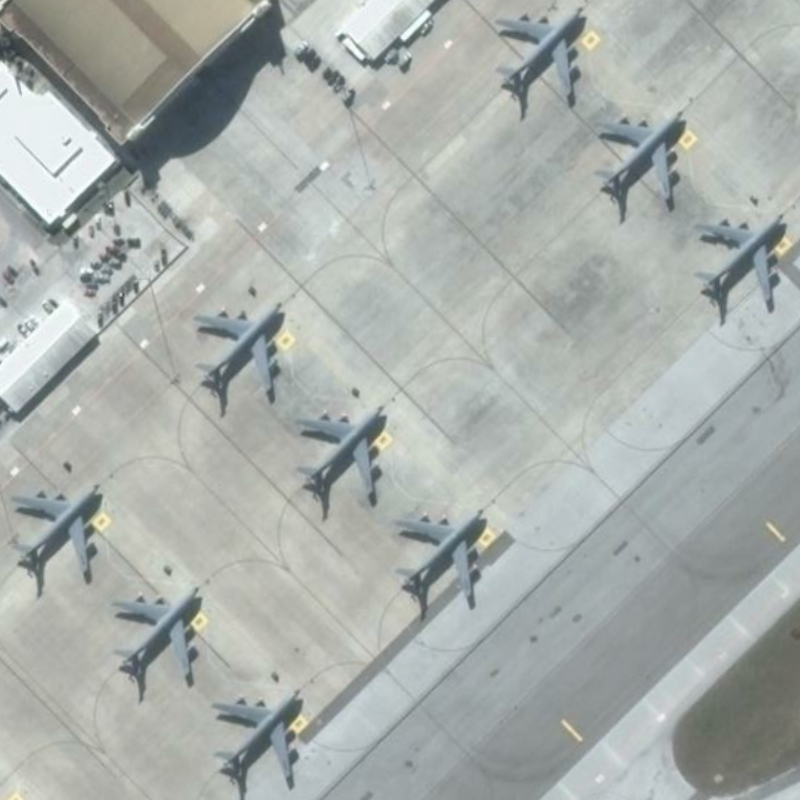A14: (689, 207, 789, 318), (105, 581, 204, 693), (291, 399, 390, 508), (387, 506, 488, 612), (188, 300, 286, 406), (6, 480, 102, 587), (490, 5, 586, 111), (592, 108, 689, 212), (208, 685, 303, 790)
